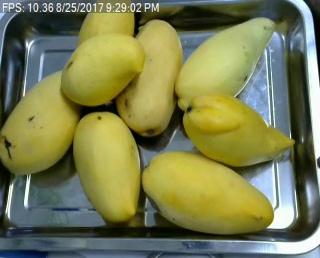Mango: (141, 151, 274, 234), (174, 17, 274, 111), (0, 68, 87, 176), (114, 18, 183, 136), (182, 95, 295, 167), (73, 111, 142, 223), (61, 32, 142, 107), (76, 0, 134, 50)
